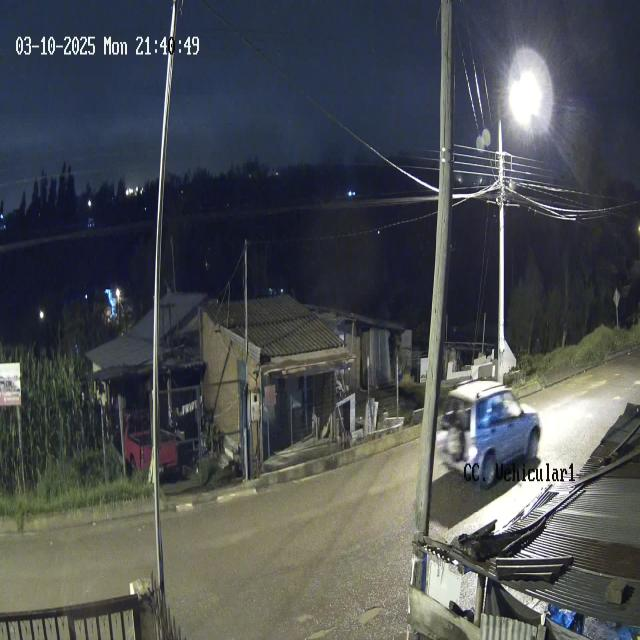SUV: (435, 380, 541, 486)
